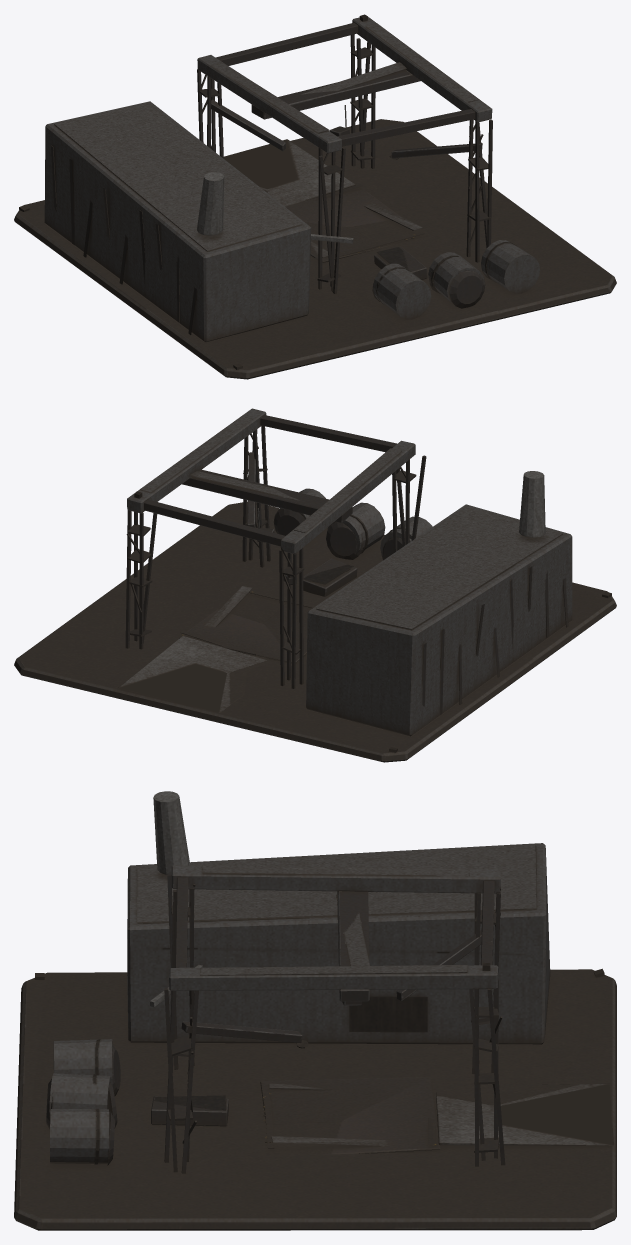
Rendered from chs_vehplant_wreck.fbx.
3 views of the same model, one above another, from view 1: azimuth 30°, elevation 25°; view 2: azimuth 150°, elevation 25°; view 3: azimuth 270°, elevation 25° (orthographic). The views are drawn at different scales.
Visible parts, largest first — view 1: base_bar, trolley_bar; view 2: base_bar, trolley_bar; view 3: base_bar, trolley_bar.
Part boxes in pixels (<box>): base_bar: <box>14,14,616,379</box>; trolley_bar: <box>251,62,420,136</box>; base_bar: <box>14,408,616,762</box>; trolley_bar: <box>182,469,352,542</box>; base_bar: <box>14,791,616,1230</box>; trolley_bar: <box>336,891,369,1005</box>.
Bounding box in the file's own units: 3106 × 1435 × 3148.
Materials: 2 (2 with a texture image).
